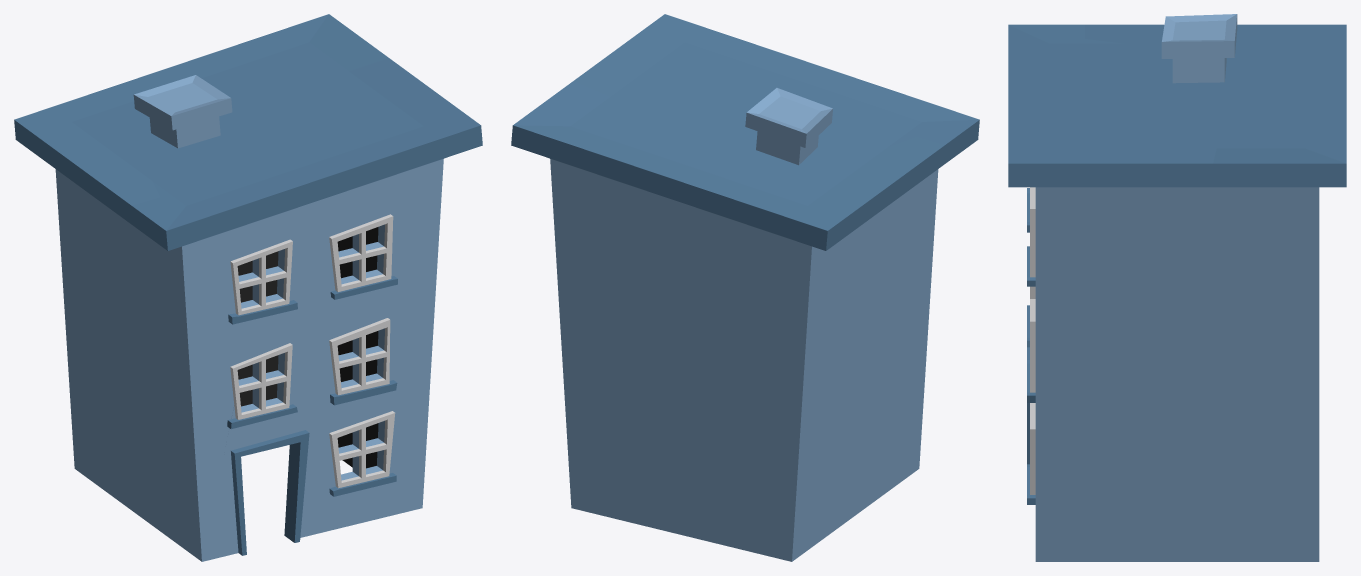
File: Small apartment building 2 - Destructible.fbx
3 renders of one model, left to right at view 1: azimuth 30°, elevation 25°; view 2: azimuth 150°, elevation 25°; view 3: azimuth 270°, elevation 25°, orthographic. The views are drawn at different scales.
Visible parts, largest first — view 1: Cube.072, Cube.074, Cube.013, Cube.012, Cube.017, Cube.006, Cube.010, Cube.051, Cube.009, Cube.004, Cube.011, Cube.007 (+21 smaller); view 2: Cube.072, Cube.074, Cube.045, Cube.038, Cube.031, Cube.040, Cube.020, Cube.039, Cube.046, Cube.036, Cube.032, Cube.015 (+27 smaller); view 3: Cube.072, Cube.074, Cube.064, Cube.071, Cube.065, Cube.067, Cube.059, Cube.066, Cube.068, Cube.069, Cube.051, Cube.052 (+15 smaller).
Part boxes in pixels (x1,y1,x2,y2): Cube.072: [14, 14, 388, 260]; Cube.074: [132, 58, 482, 254]; Cube.013: [199, 196, 331, 345]; Cube.012: [307, 188, 416, 293]; Cube.017: [174, 346, 239, 463]; Cube.006: [338, 419, 422, 527]; Cube.010: [309, 280, 388, 385]; Cube.051: [395, 158, 443, 331]; Cube.009: [202, 414, 318, 561]; Cube.004: [284, 438, 353, 542]; Cube.011: [226, 321, 319, 407]; Cube.007: [225, 368, 333, 450]; Cube.072: [511, 81, 946, 267]; Cube.074: [573, 14, 979, 162]; Cube.045: [552, 177, 663, 286]; Cube.038: [626, 306, 720, 439]; Cube.031: [701, 305, 785, 395]; Cube.040: [558, 287, 632, 407]; Cube.020: [756, 306, 823, 449]; Cube.039: [593, 355, 710, 447]; Cube.046: [649, 209, 736, 285]; Cube.036: [668, 425, 743, 521]; Cube.032: [711, 394, 798, 477]; Cube.015: [834, 416, 900, 523]; Cube.072: [1085, 14, 1346, 238]; Cube.074: [1008, 24, 1231, 244]; Cube.064: [1082, 357, 1222, 457]; Cube.071: [1136, 187, 1283, 279]; Cube.065: [1195, 327, 1318, 427]; Cube.067: [1235, 226, 1319, 335]; Cube.059: [1100, 447, 1214, 538]; Cube.066: [1082, 326, 1240, 392]; Cube.068: [1048, 187, 1135, 326]; Cube.069: [1087, 245, 1189, 332]; Cube.051: [1035, 187, 1086, 373]; Cube.052: [1027, 327, 1124, 456].
Bounding box in the file's own units: 287 × 348 × 239.
